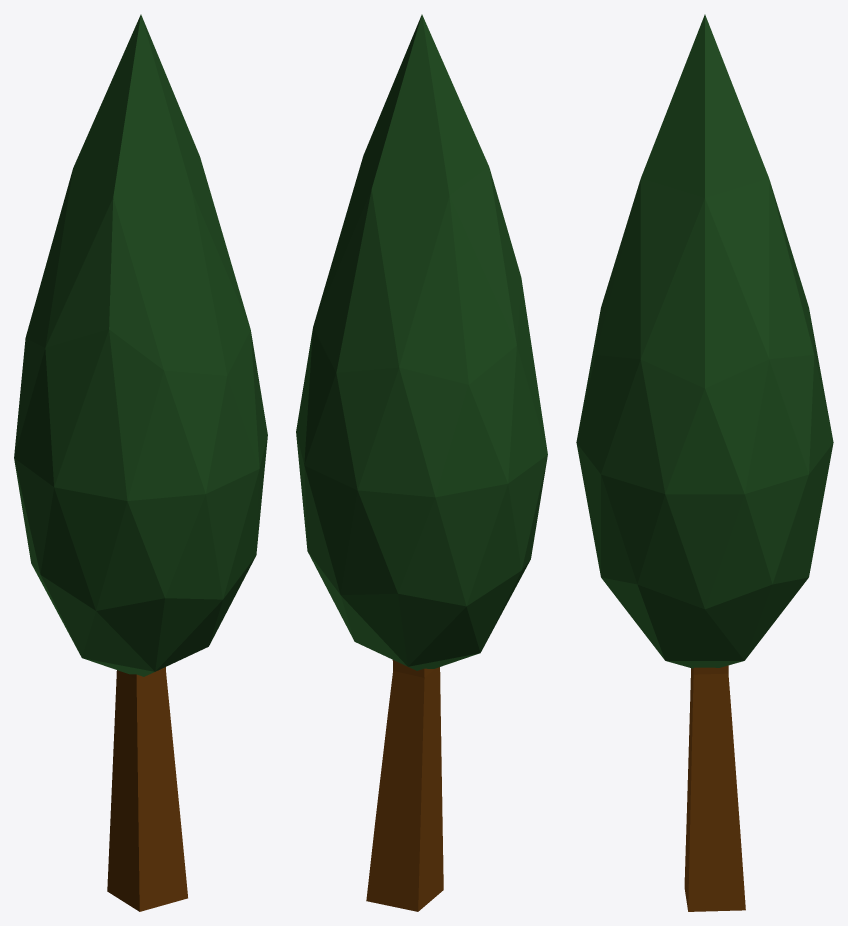
Rendered from TreeC6.fbx.
3 views of the same model, side by side, from view 1: azimuth 30°, elevation 25°; view 2: azimuth 150°, elevation 25°; view 3: azimuth 270°, elevation 25° (orthographic).
Parts seen in each view (by area): view 1: TreeC6; view 2: TreeC6; view 3: TreeC6.
Part boxes in pixels (box(x1,y1,x2,y2)): TreeC6: box(14, 14, 267, 911); TreeC6: box(296, 14, 547, 911); TreeC6: box(576, 14, 833, 911).
Size of the model in its own units: 655 by 623 by 2470.
